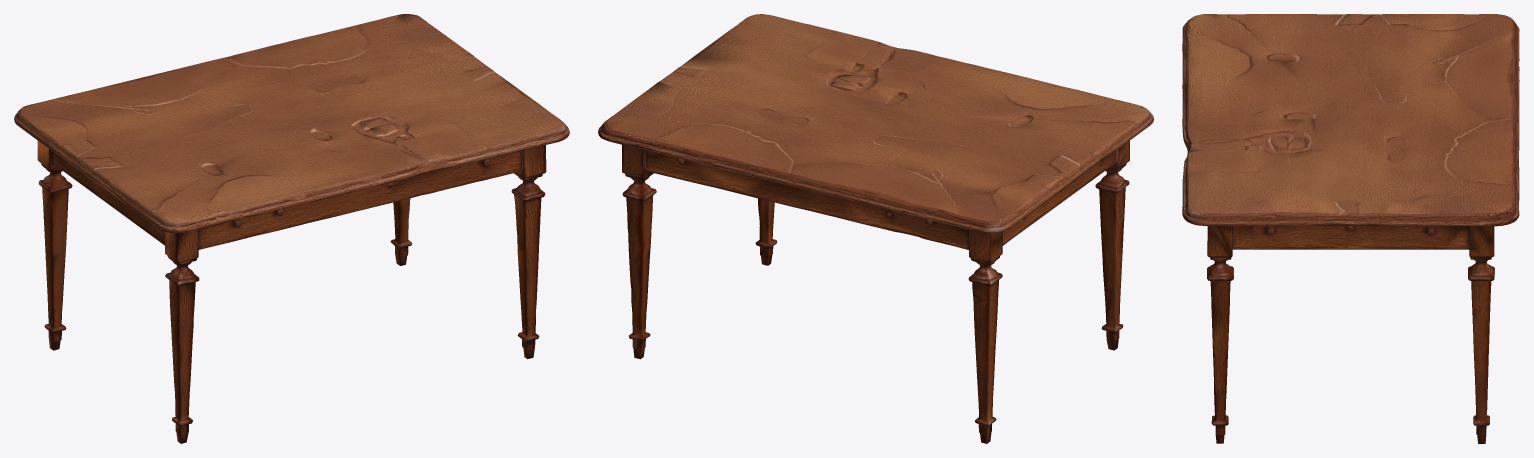
Rendered from mesa.glb.
3 views of the same model, side by side, from view 1: azimuth 30°, elevation 25°; view 2: azimuth 150°, elevation 25°; view 3: azimuth 270°, elevation 25° (orthographic). The views are drawn at different scales.
Parts seen in each view (by area): view 1: tripo_node_ad5d1d9a-52c4-44b1-a53b-e59e765a4b8e; view 2: tripo_node_ad5d1d9a-52c4-44b1-a53b-e59e765a4b8e; view 3: tripo_node_ad5d1d9a-52c4-44b1-a53b-e59e765a4b8e.
Part boxes in pixels (x1,y1,x2,y2): tripo_node_ad5d1d9a-52c4-44b1-a53b-e59e765a4b8e: (14, 14, 569, 443); tripo_node_ad5d1d9a-52c4-44b1-a53b-e59e765a4b8e: (598, 14, 1153, 443); tripo_node_ad5d1d9a-52c4-44b1-a53b-e59e765a4b8e: (1182, 14, 1519, 443).
Bounding box in the file's own units: 1 × 0.553 × 0.6955.
Materials: 1 (1 with a texture image).
